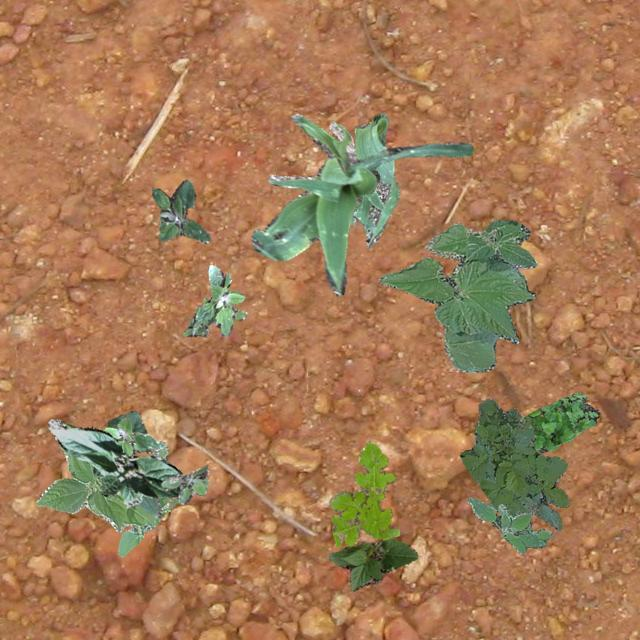crop: (250, 112, 472, 296), (378, 218, 536, 372), (34, 444, 178, 556), (47, 418, 182, 506), (92, 410, 160, 518), (350, 112, 398, 245), (328, 538, 418, 590)
weed: (458, 398, 568, 530), (328, 440, 399, 546), (466, 497, 552, 552), (522, 392, 598, 452), (182, 264, 245, 336), (151, 178, 209, 242), (103, 416, 165, 456), (160, 464, 208, 504), (486, 502, 530, 528)
